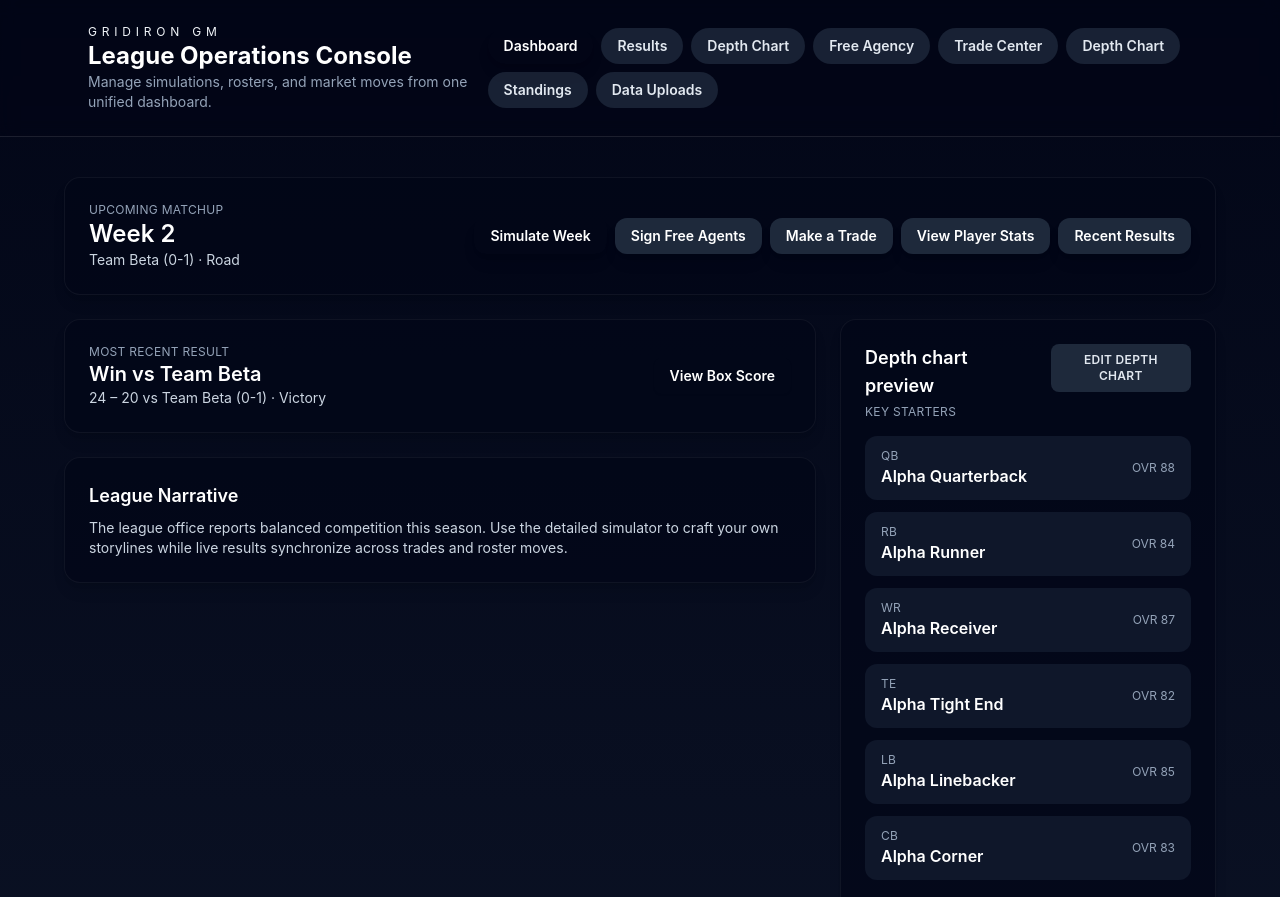
Test: NFL GM simulator app flows › simulates a week and navigates to results
Click the button "Simulate Week" at (541, 236), box [474,218,607,254]
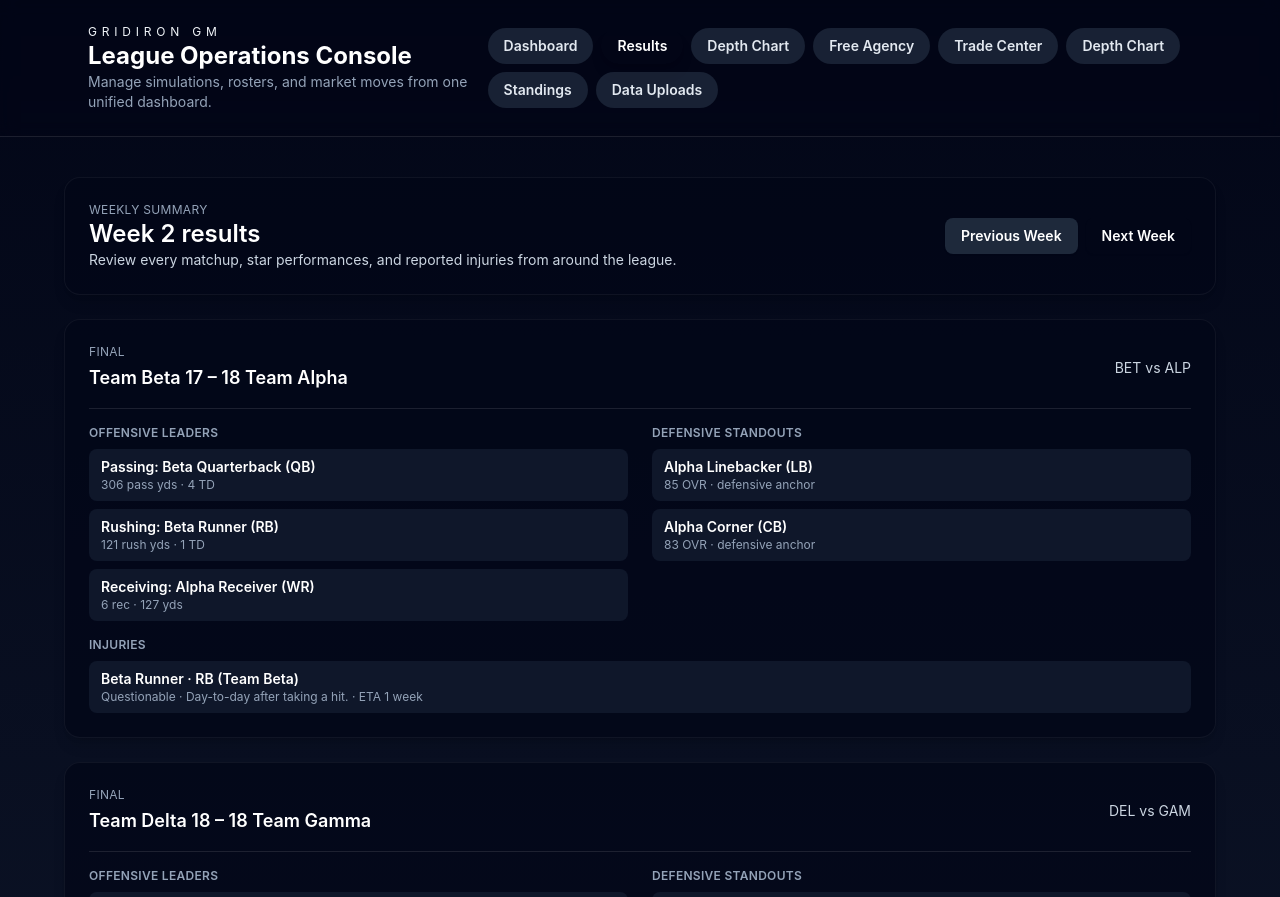
Expected: the text "Team Alpha" is shown, [245,367,348,388]
Now the heading "Week 2 results" is shown, box [89,219,260,248]
